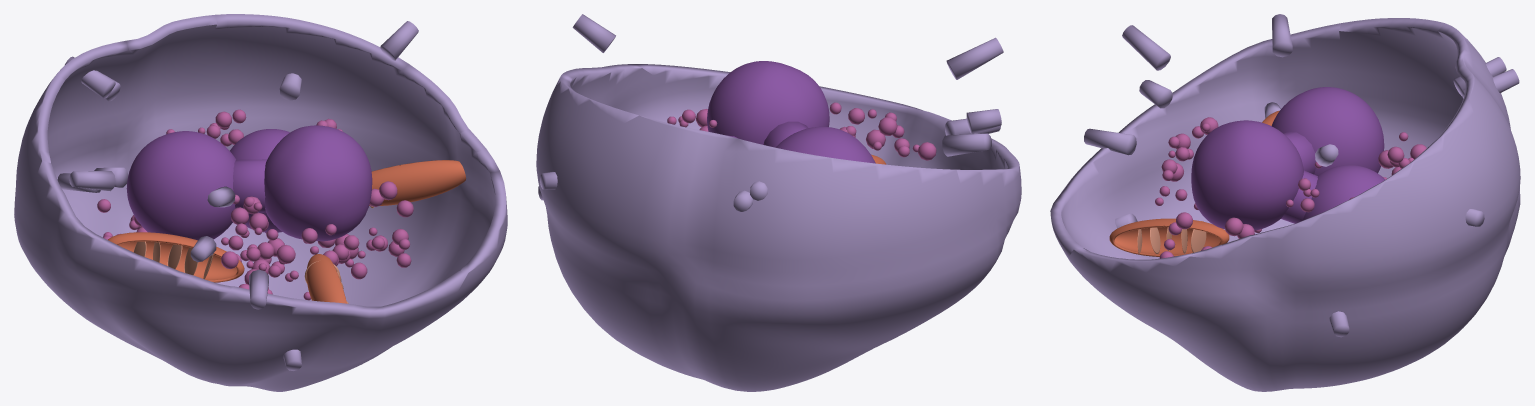
Rendered from white-blood-cell.glb.
The picture shows the model from 3 angles, left to right: view 1: azimuth 30°, elevation 25°; view 2: azimuth 150°, elevation 25°; view 3: azimuth 270°, elevation 25°; orthographic projection. The views are drawn at different scales.
Parts seen in each view (by area): view 1: membrane, nucleus, granules, mitochondria; view 2: membrane, nucleus, granules; view 3: membrane, nucleus, granules, mitochondria.
Boxes of the visible parts, bbox=[...] form: membrane: bbox=[14, 14, 507, 391]; nucleus: bbox=[126, 125, 372, 241]; granules: bbox=[97, 109, 413, 300]; mitochondria: bbox=[108, 160, 466, 303]; membrane: bbox=[536, 14, 1021, 391]; nucleus: bbox=[707, 61, 875, 163]; granules: bbox=[667, 102, 936, 160]; membrane: bbox=[1050, 14, 1520, 391]; nucleus: bbox=[1191, 87, 1385, 230]; granules: bbox=[1155, 117, 1426, 258]; mitochondria: bbox=[1109, 110, 1279, 256].
Size of the model in its own units: 5.89 by 4.11 by 5.82.
